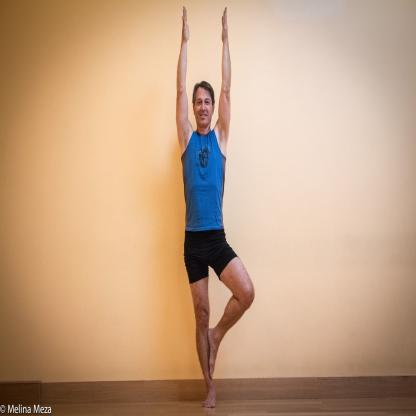tree: (170, 1, 261, 416)
